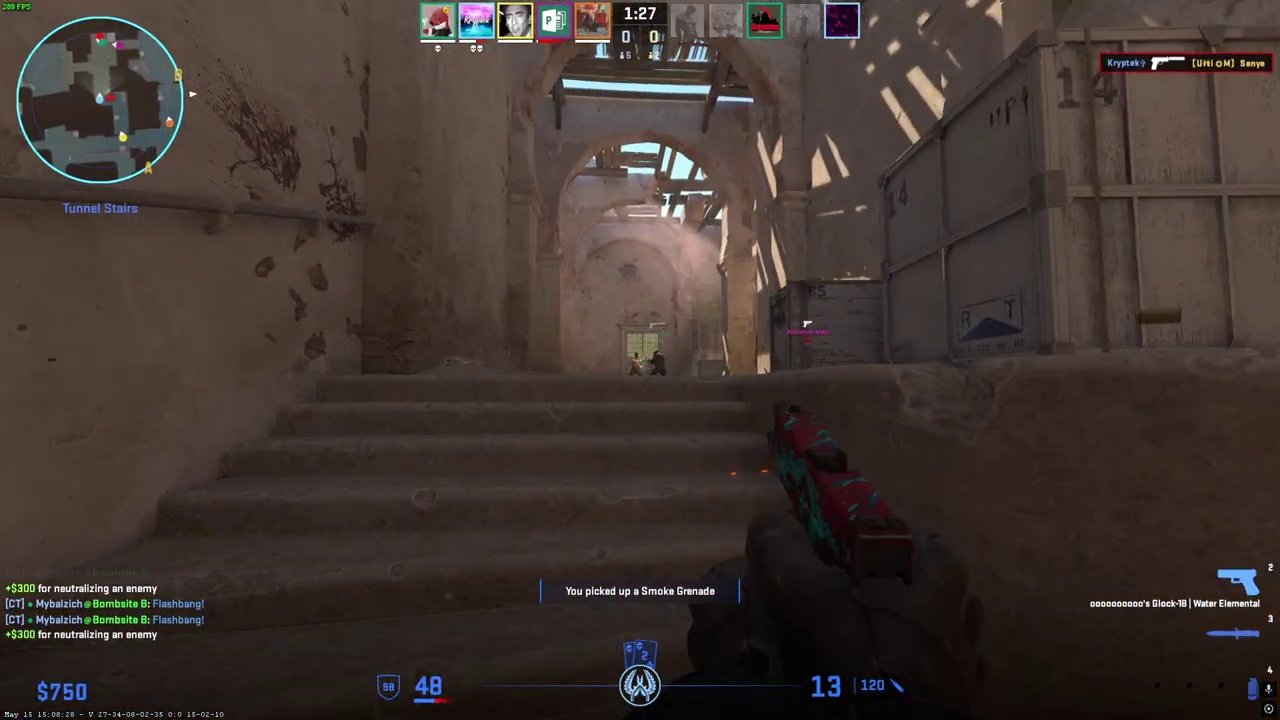CT: (651, 351, 666, 376)
Terrorist: (629, 352, 642, 376)
